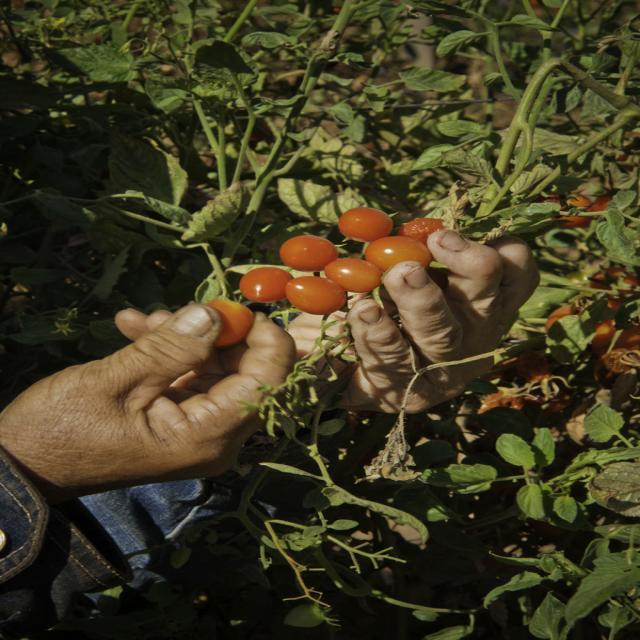Tomato: (545, 265, 640, 351), (283, 275, 351, 317), (364, 236, 430, 270), (205, 301, 253, 347), (334, 206, 395, 241), (281, 237, 337, 272), (237, 267, 291, 302), (326, 260, 386, 290), (397, 218, 443, 243), (588, 195, 612, 217), (569, 194, 593, 207)
